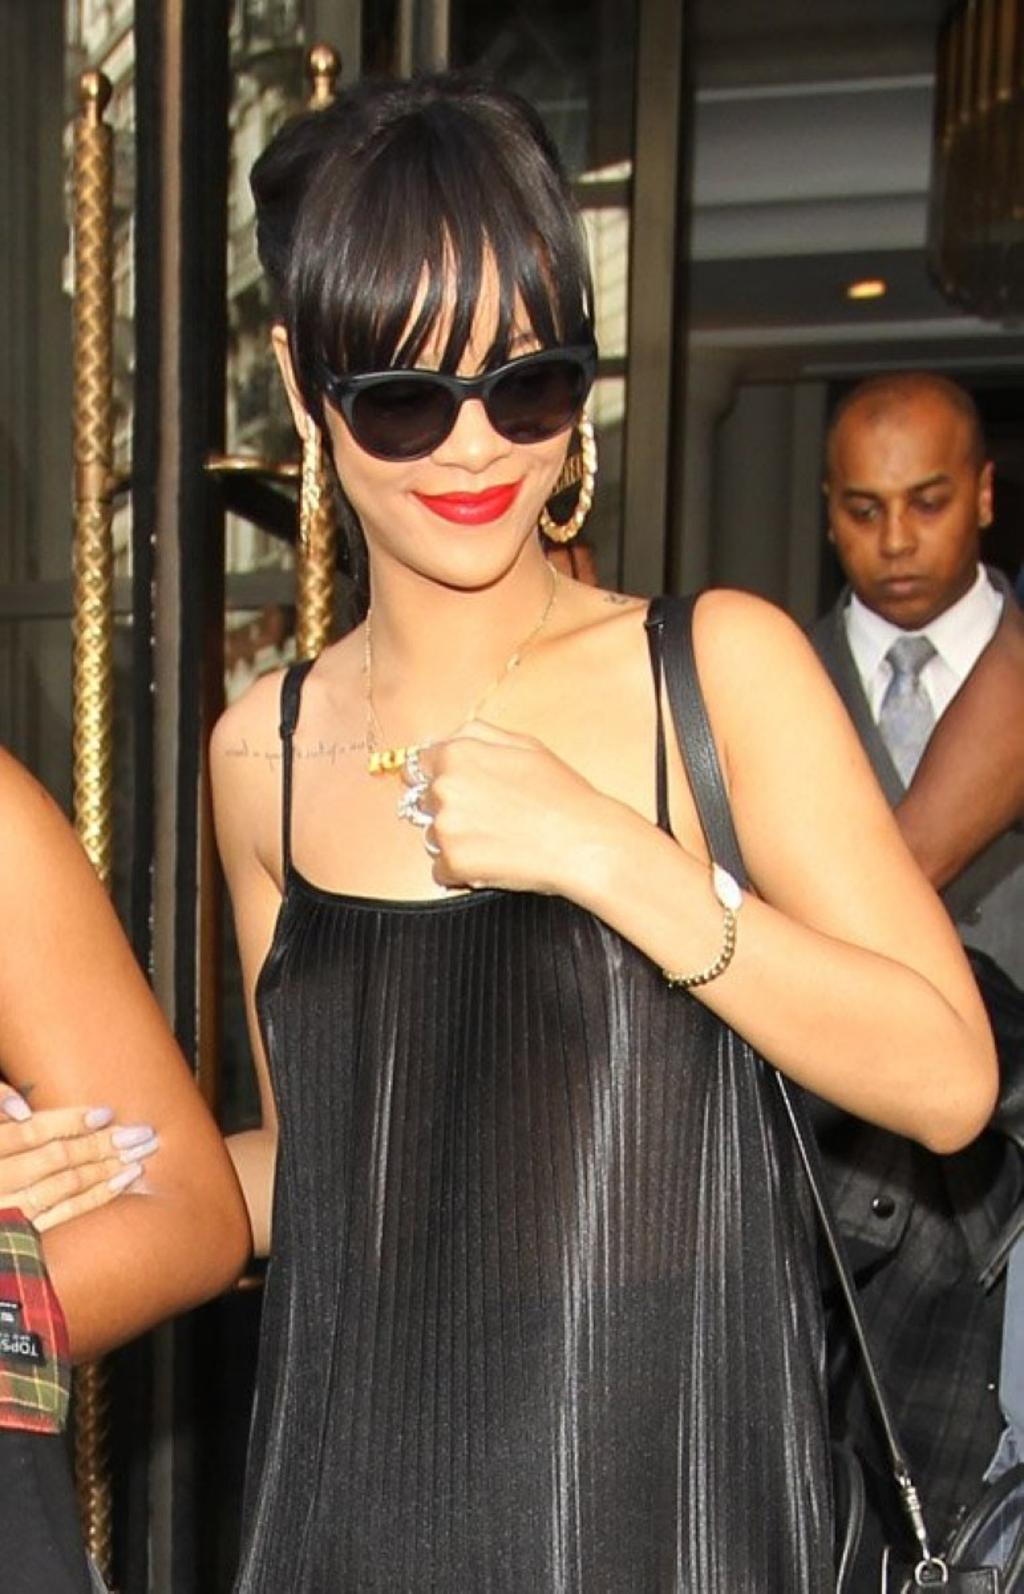face: (314, 181, 572, 586), (828, 398, 977, 625)
